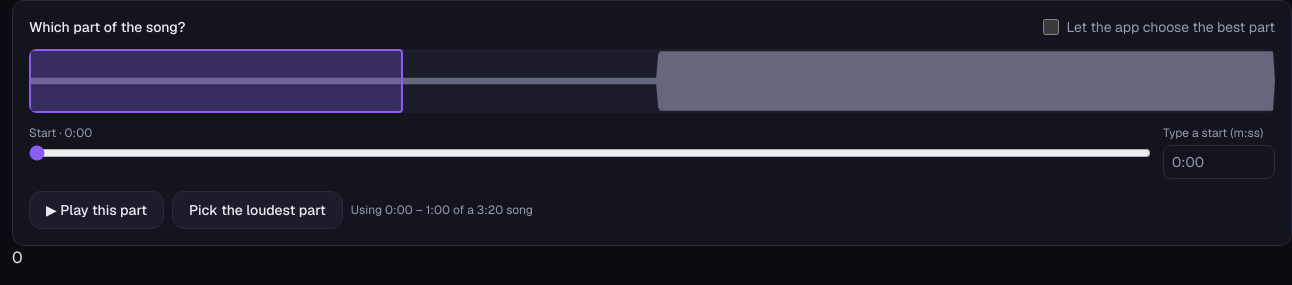
Test case: AudioRangePicker: choose the part of the song › accepts a typed start time and keeps it inside the song
expect the text "Using 0:00 – 1:00 of a 3:20 song" is shown: met, box top-left (351, 202), bottom-right (533, 218)
Replace the text in the field named "Start time" with "1:30" at (1219, 162), box top-left (1163, 145), bottom-right (1275, 179)
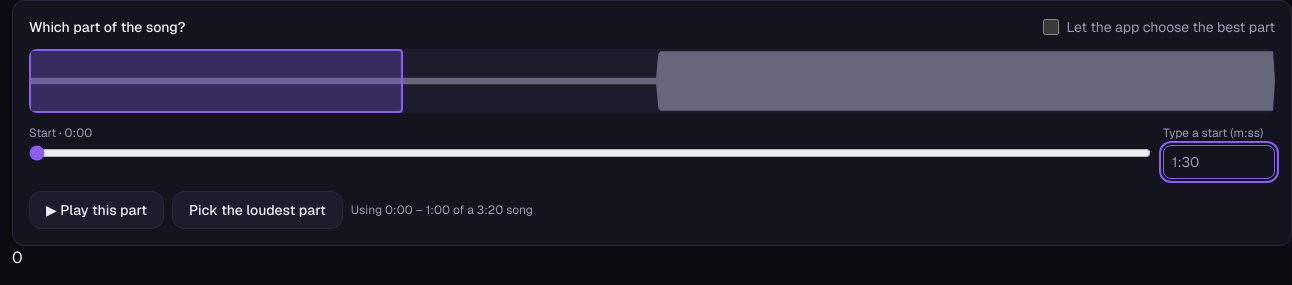
Press Tab
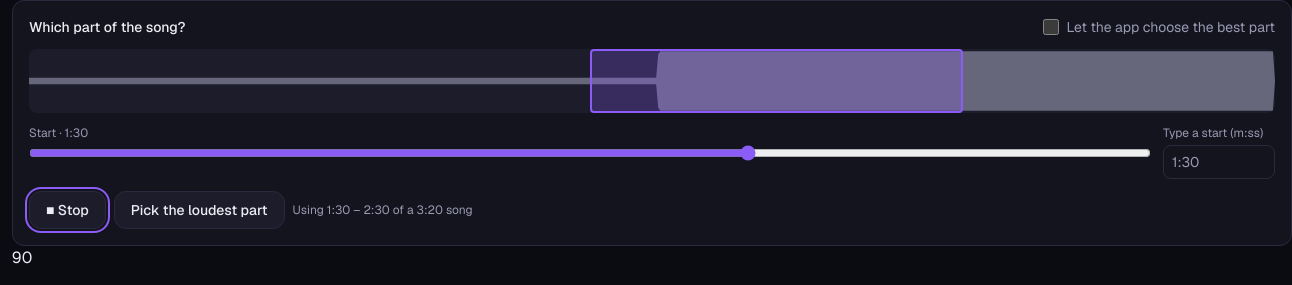
expect the text named "start" reads "90": met, box top-left (12, 247), bottom-right (32, 268)
Type "9:00" into the field named "Start time".
click(1219, 162); type("9:00")  # box top-left (1163, 145), bottom-right (1275, 179)
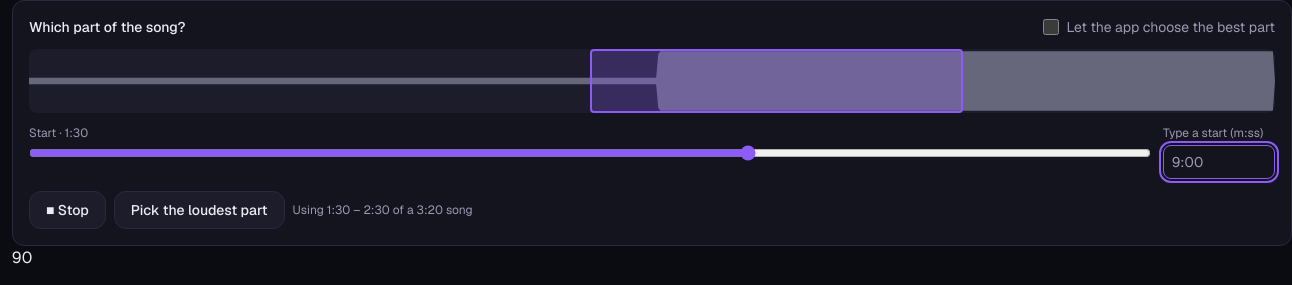
Press Tab
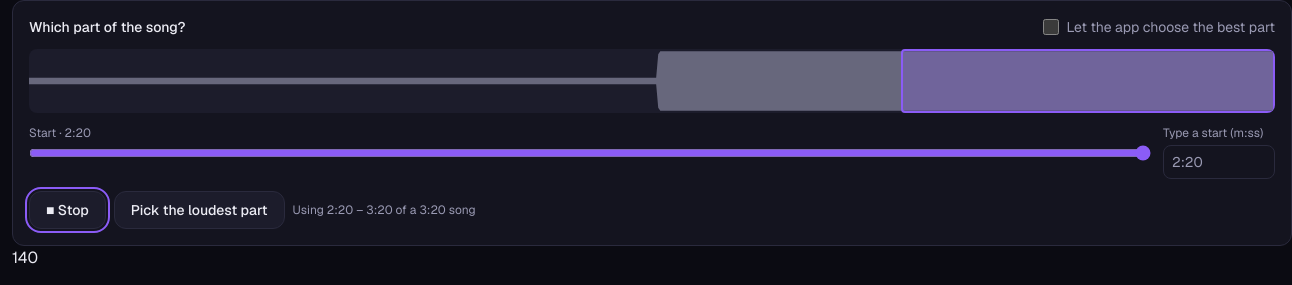
expect the text named "start" reads "140": met, box top-left (12, 247), bottom-right (38, 268)
